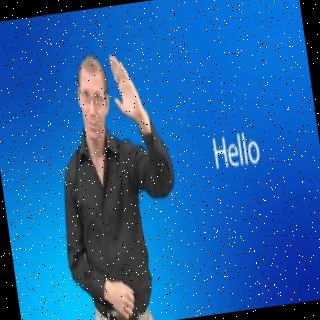Hello: (40, 40, 196, 320)
